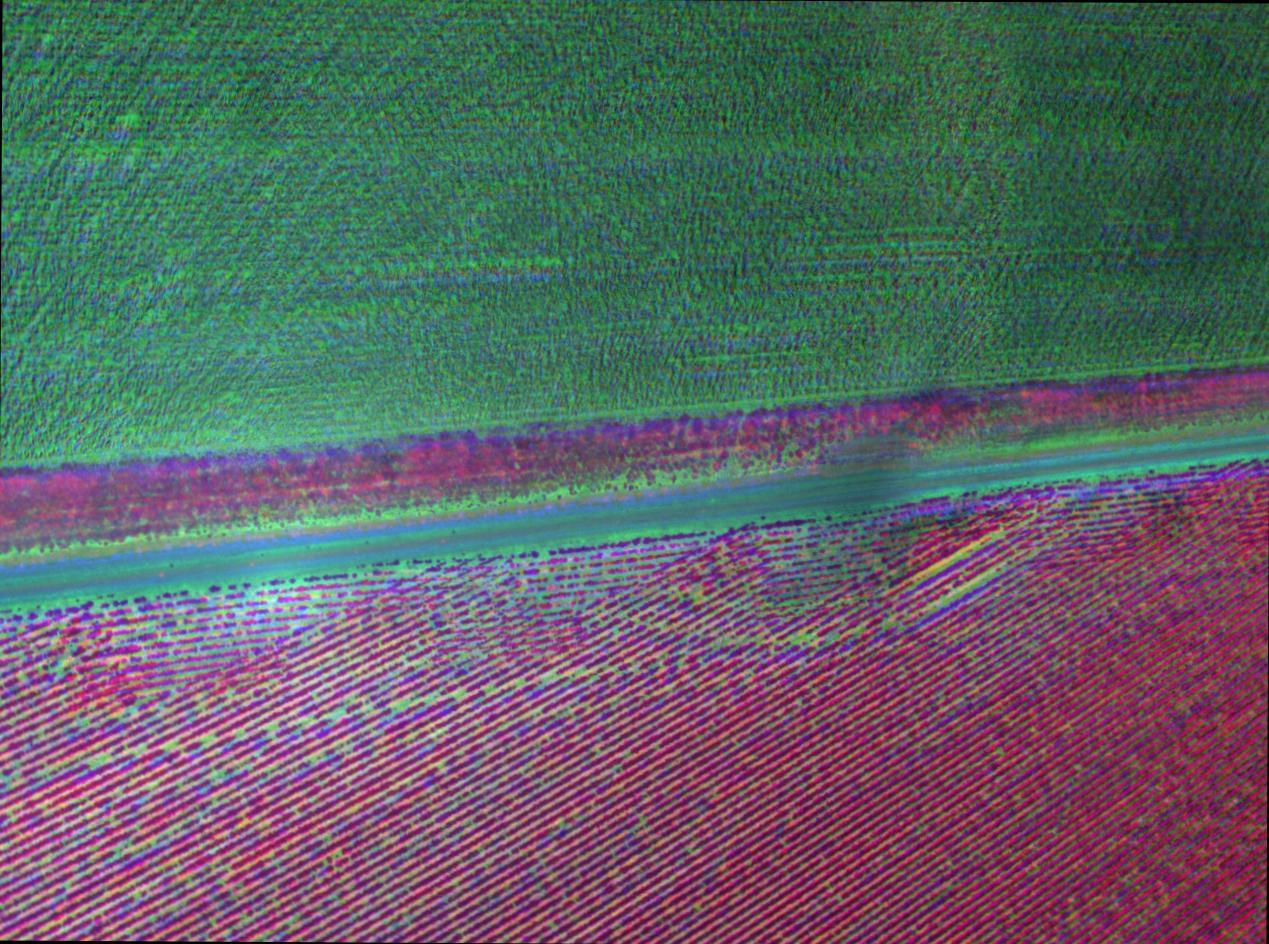dc: (955, 590, 961, 597), (831, 633, 838, 639), (548, 675, 555, 681), (399, 701, 406, 707), (206, 738, 213, 744), (313, 592, 319, 598), (718, 640, 724, 646), (93, 761, 99, 767), (1218, 459, 1223, 466), (488, 688, 493, 694), (212, 771, 217, 777), (943, 562, 948, 567), (135, 892, 139, 897)
